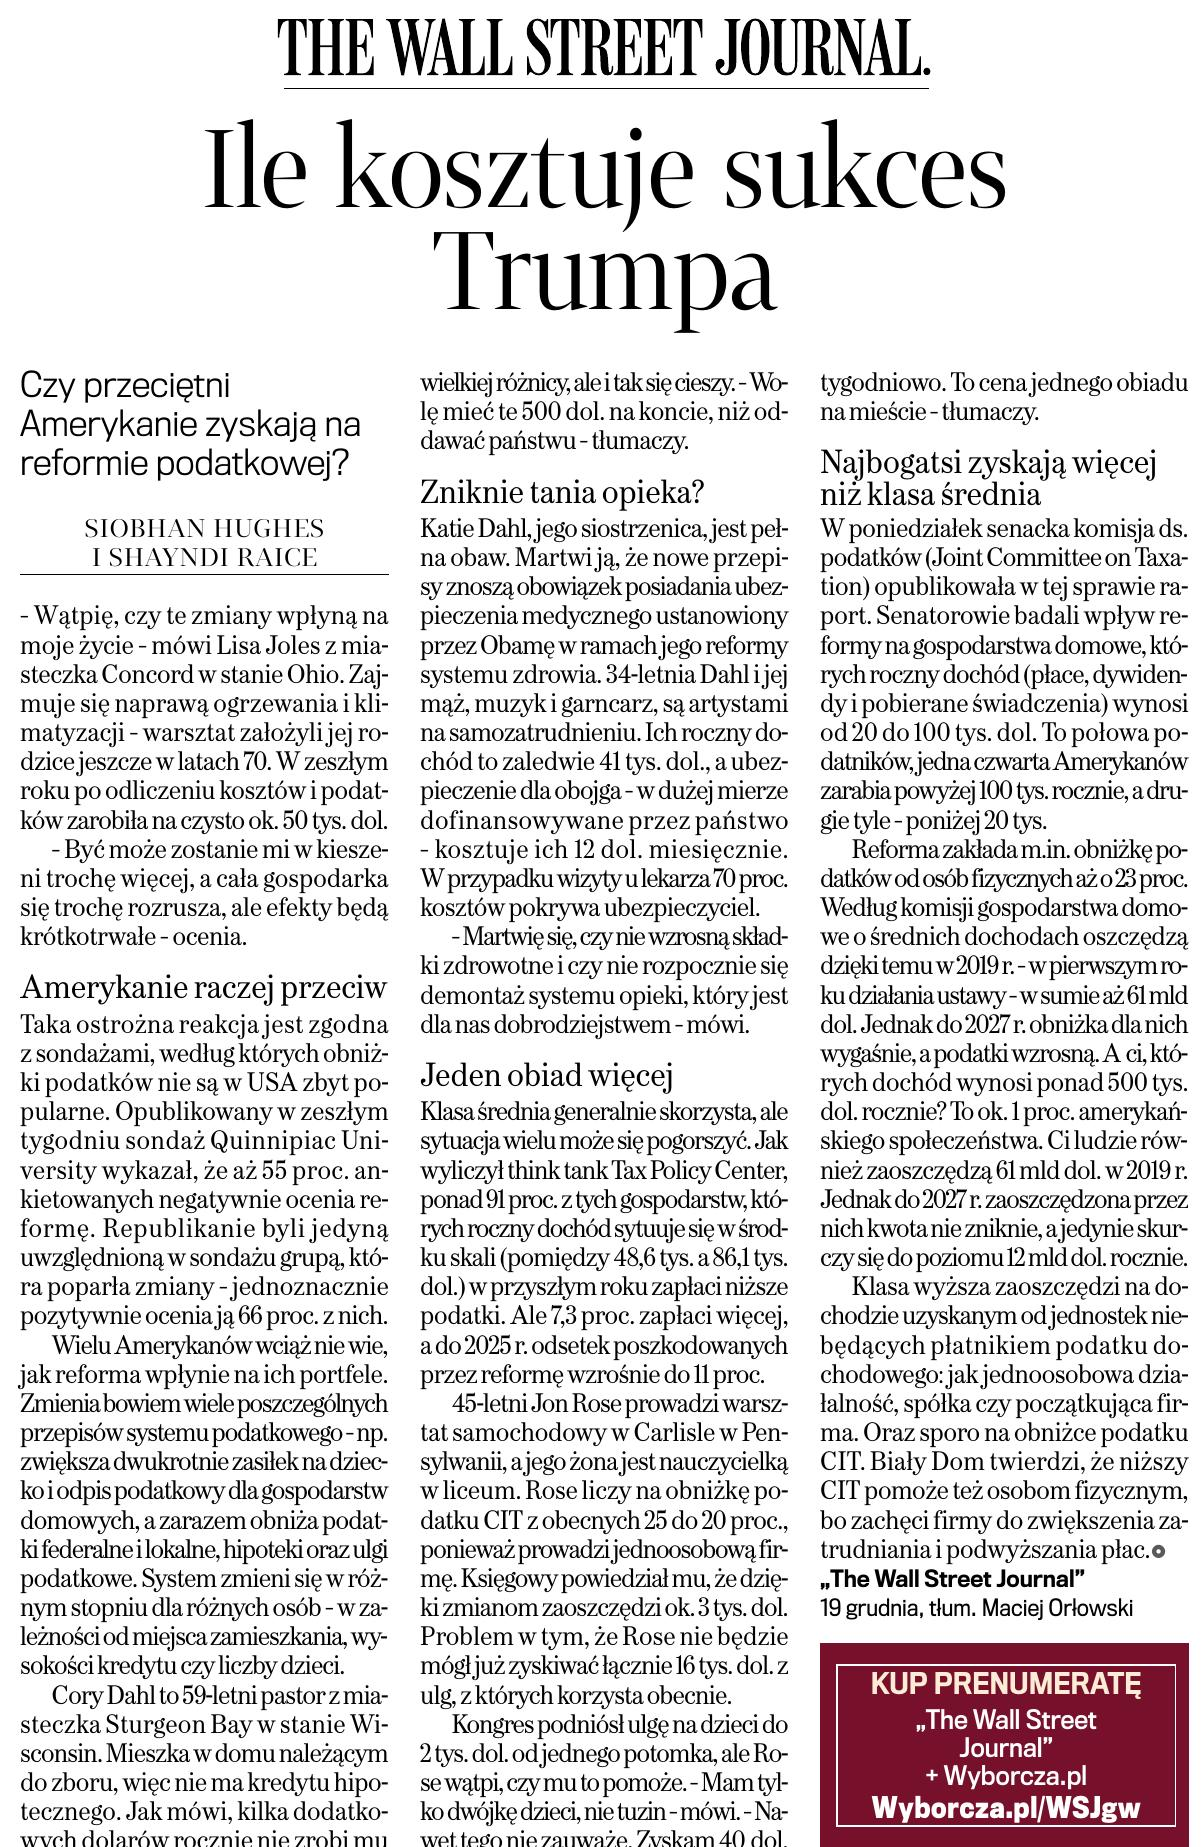author: (66, 505, 345, 572)
body: (415, 362, 801, 1847), (810, 357, 1202, 1628), (8, 594, 397, 1847)
lead: (8, 358, 376, 498)
title: (194, 7, 1038, 341)
